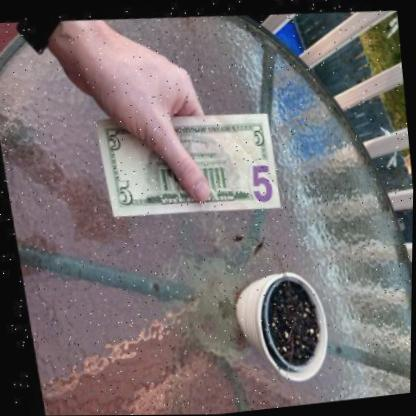dollar_back: (92, 97, 279, 226)
